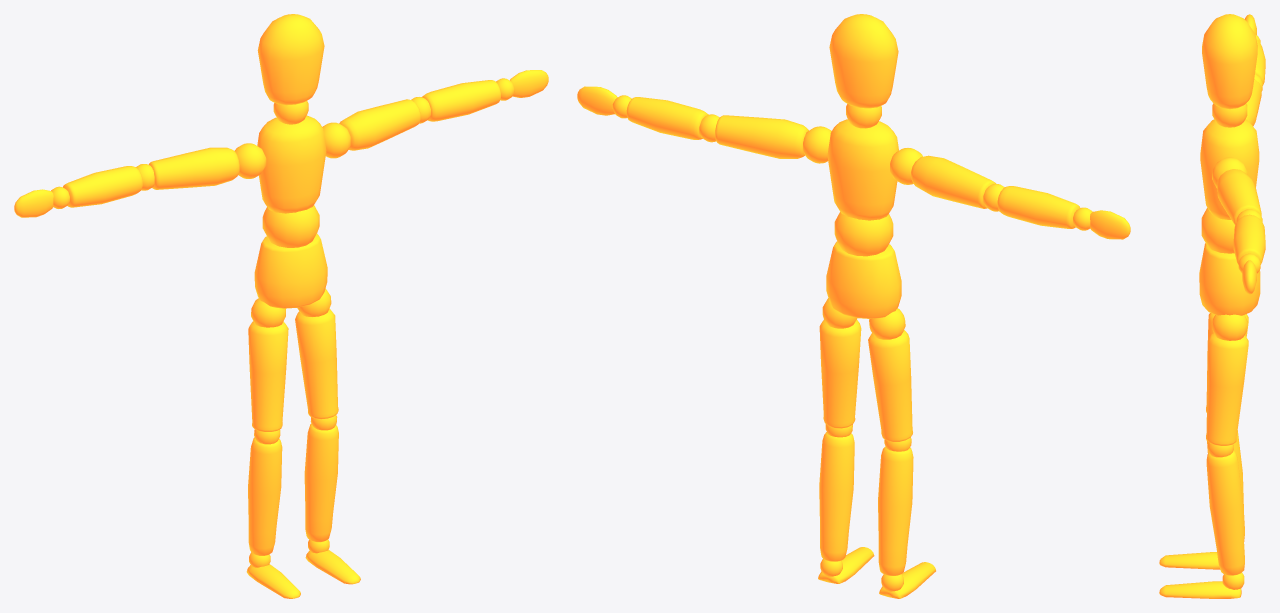
Rendered from testgeo.gltf.
3 renders of one model, left to right at view 1: azimuth 30°, elevation 25°; view 2: azimuth 150°, elevation 25°; view 3: azimuth 270°, elevation 25°, orthographic. The views are drawn at different scales.
Visible parts, largest first — view 1: Upper Body, Head, Pelvis, Right Thigh, LeftThigh, Right Shin, LeftShin, Right Upper Arm, LeftUpper Arm, Right Lower Arm, LeftLower Arm, Joint (+6 smaller); view 2: Upper Body, Head, Pelvis, Right Shin, LeftShin, Right Thigh, LeftThigh, LeftUpper Arm, Right Upper Arm, Right Lower Arm, LeftLower Arm, Joint (+6 smaller); view 3: Head, LeftThigh, LeftShin, Upper Body, Pelvis, LeftJoint (×5), LeftUpper Arm, LeftLower Arm, LeftFoot, Joint, Right Foot, Neck (+5 smaller).
Part boxes in pixels (x1,y1,x2,y2): Upper Body: (257, 115, 326, 213); Head: (257, 14, 324, 105); Pelvis: (254, 233, 327, 308); Right Thigh: (248, 321, 288, 431); LeftThigh: (295, 308, 338, 419); Right Shin: (248, 437, 282, 555); LeftShin: (304, 423, 338, 542); Right Upper Arm: (148, 147, 239, 189); LeftUpper Arm: (339, 99, 420, 150); Right Lower Arm: (63, 166, 142, 207); LeftLower Arm: (422, 80, 500, 121); Joint: (262, 205, 319, 247); Upper Body: (827, 119, 898, 220); Head: (829, 14, 898, 108); Pelvis: (826, 241, 901, 318); Right Shin: (878, 446, 913, 575); LeftShin: (819, 432, 854, 561); Right Thigh: (868, 330, 912, 441); LeftThigh: (819, 319, 861, 428); LeftUpper Arm: (715, 115, 808, 158); Right Upper Arm: (911, 155, 995, 208); Right Lower Arm: (997, 186, 1080, 228); LeftLower Arm: (626, 97, 708, 139); Joint: (834, 212, 893, 256); Head: (1202, 14, 1257, 109); LeftThigh: (1206, 333, 1248, 445); LeftShin: (1206, 450, 1244, 575); Upper Body: (1200, 119, 1259, 219); Pelvis: (1199, 243, 1260, 315); LeftJoint (×5): (1207, 157, 1260, 589); LeftUpper Arm: (1217, 169, 1261, 225); LeftLower Arm: (1233, 214, 1265, 264); LeftFoot: (1159, 581, 1241, 598); Joint: (1201, 207, 1234, 253); Right Foot: (1159, 552, 1220, 569); Neck: (1212, 103, 1247, 127).
Bounding box in the file's own units: 1.83 × 1.8 × 0.3094.
